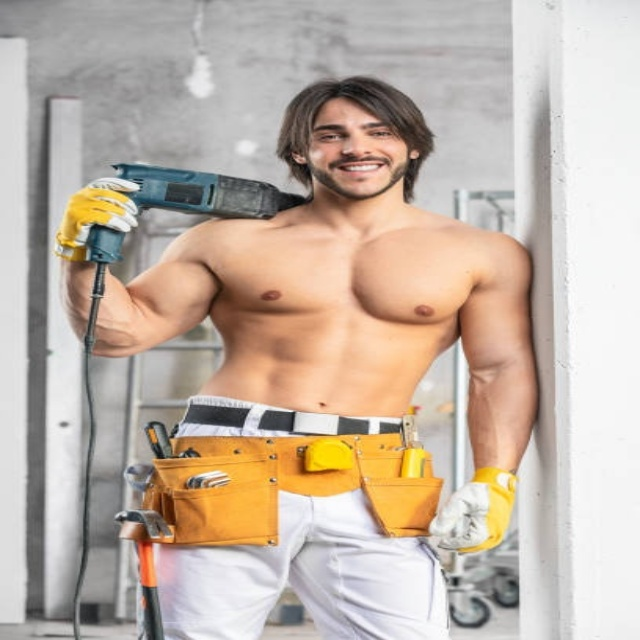Guantes: (428, 468, 518, 552), (55, 178, 141, 263)
Sin_gafas: (306, 117, 389, 147)
Sin_mascara: (326, 154, 395, 185)
